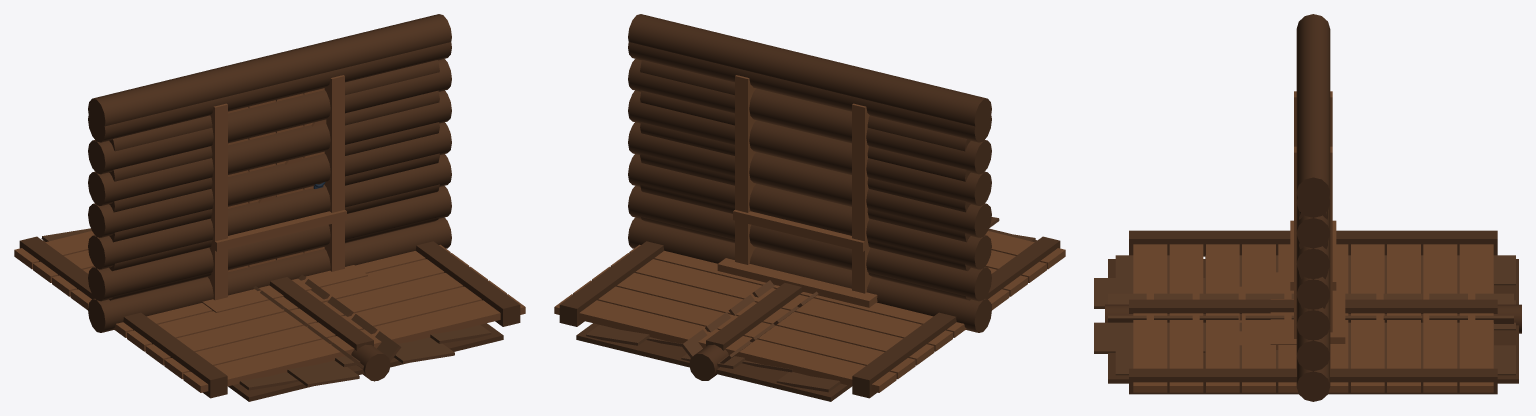
Rendered from kit_construcao_completo_com_animacoes.glb.
The picture shows the model from 3 angles, left to right: view 1: azimuth 30°, elevation 25°; view 2: azimuth 150°, elevation 25°; view 3: azimuth 270°, elevation 25°; orthographic projection. The views are drawn at different scales.
Visible parts, largest first — view 1: Piece_Wall_Solid_3x2m, Piece_Floor_3x3m, Piece_Wall_Door_3x2m, Piece_Roof_Slope_45deg, Piece_Wall_Window_3x2m, Piece_Ridge_Cap, Piece_Stairs, Door_Leaf_Mesh; view 2: Piece_Wall_Solid_3x2m, Piece_Floor_3x3m, Piece_Wall_Door_3x2m, Piece_Roof_Slope_45deg, Piece_Wall_Window_3x2m, Piece_Ridge_Cap, Piece_Stairs; view 3: Piece_Floor_3x3m, Piece_Wall_Door_3x2m, Piece_Roof_Slope_45deg, Piece_Wall_Solid_3x2m, Piece_Ridge_Cap, Piece_Stairs, Piece_Wall_Window_3x2m.
Part boxes in pixels (<box>): Piece_Wall_Solid_3x2m: <box>88,42,451,332</box>; Piece_Floor_3x3m: <box>14,231,525,398</box>; Piece_Wall_Door_3x2m: <box>88,14,451,300</box>; Piece_Roof_Slope_45deg: <box>41,228,503,401</box>; Piece_Wall_Window_3x2m: <box>89,90,450,269</box>; Piece_Ridge_Cap: <box>253,274,401,381</box>; Piece_Stairs: <box>202,265,367,312</box>; Door_Leaf_Mesh: <box>228,88,326,272</box>; Piece_Wall_Solid_3x2m: <box>628,42,991,332</box>; Piece_Floor_3x3m: <box>554,231,1065,398</box>; Piece_Wall_Door_3x2m: <box>628,14,991,300</box>; Piece_Roof_Slope_45deg: <box>576,217,1036,401</box>; Piece_Wall_Window_3x2m: <box>629,90,991,269</box>; Piece_Ridge_Cap: <box>681,280,818,380</box>; Piece_Stairs: <box>717,258,877,307</box>; Piece_Floor_3x3m: <box>1129,230,1497,394</box>; Piece_Wall_Door_3x2m: <box>1294,14,1332,338</box>; Piece_Roof_Slope_45deg: <box>1094,255,1518,383</box>; Piece_Wall_Solid_3x2m: <box>1296,187,1330,401</box>; Piece_Ridge_Cap: <box>1105,293,1521,333</box>; Piece_Stairs: <box>1239,266,1345,349</box>; Piece_Wall_Window_3x2m: <box>1290,220,1336,339</box>.
Bounding box in the file's own units: 3.2 × 2.17 × 3.54.
